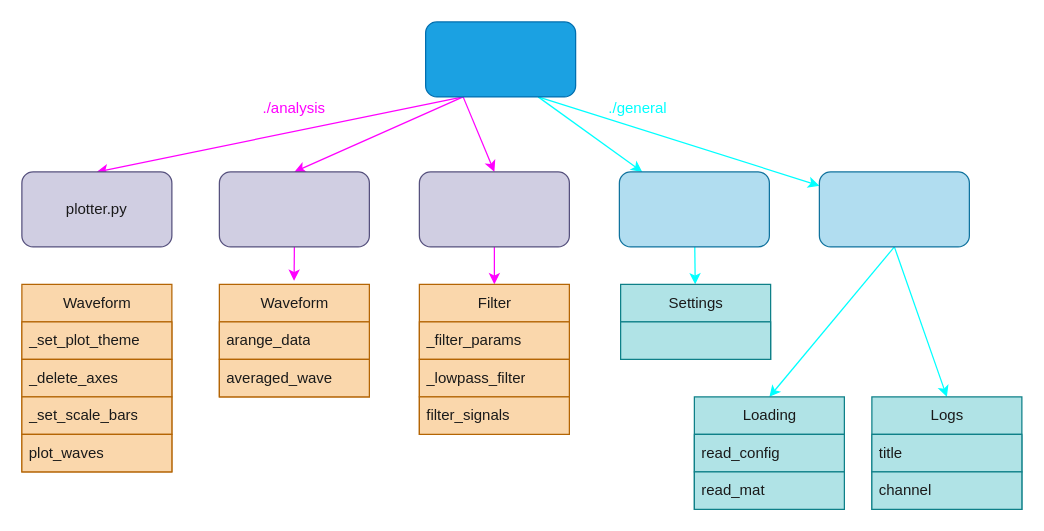
The diagram is 1044 pixels wide and 531 high, and some of its shapes have lost their labels. Each missing label, with the centre of its shape:
"filter.py" belongs at (x=493, y=209).
"loadings.py" belongs at (x=893, y=209).
"main.py" belongs at (x=500, y=59).
"set_basic_params" belongs at (x=695, y=340).
"settings.py" belongs at (x=693, y=209).
"waveform.py" belongs at (x=293, y=209).
